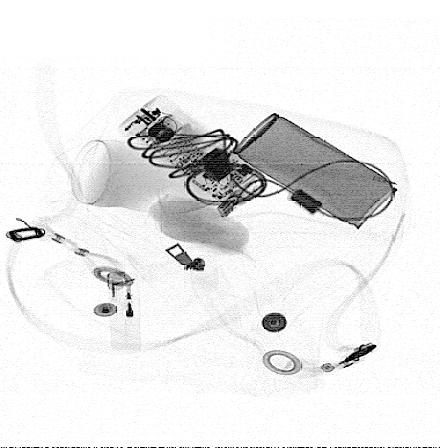Lighter: (106, 273, 142, 351)
